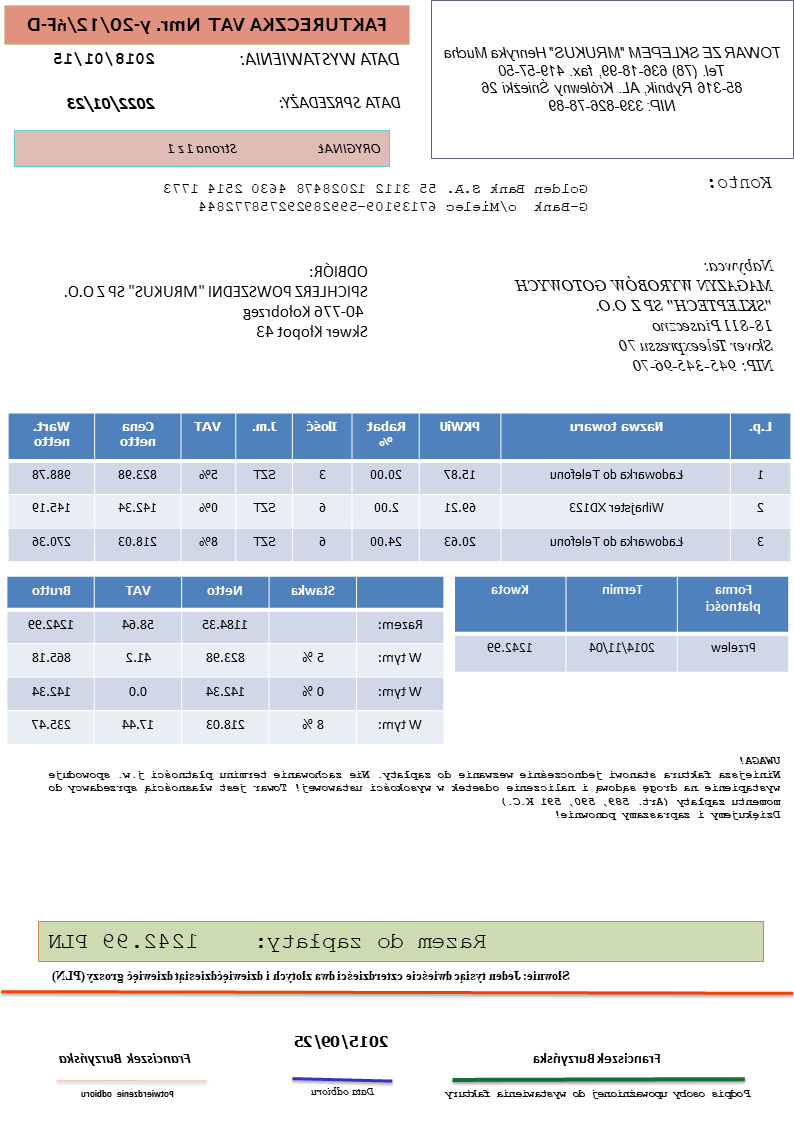Table: (8, 412, 792, 563), (5, 575, 445, 745), (455, 574, 790, 674)
TextBox: (46, 753, 784, 822), (513, 257, 776, 374), (441, 41, 784, 115), (64, 260, 370, 341), (161, 180, 589, 216), (48, 929, 489, 955), (51, 967, 571, 984), (27, 12, 391, 36), (444, 1086, 753, 1102), (166, 139, 384, 158), (238, 48, 402, 68), (277, 92, 404, 111), (58, 1051, 194, 1068), (532, 1050, 664, 1067), (53, 50, 157, 69), (293, 1032, 391, 1050), (63, 95, 158, 112), (708, 172, 775, 192), (79, 1087, 177, 1100), (309, 1084, 377, 1099)
